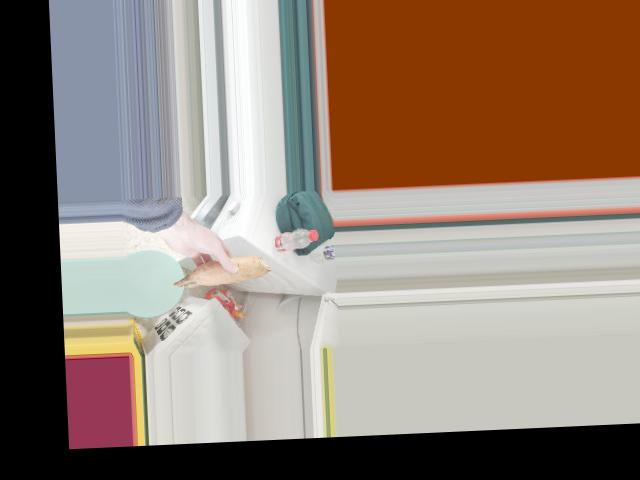sweet_potato: (169, 256, 264, 287)
